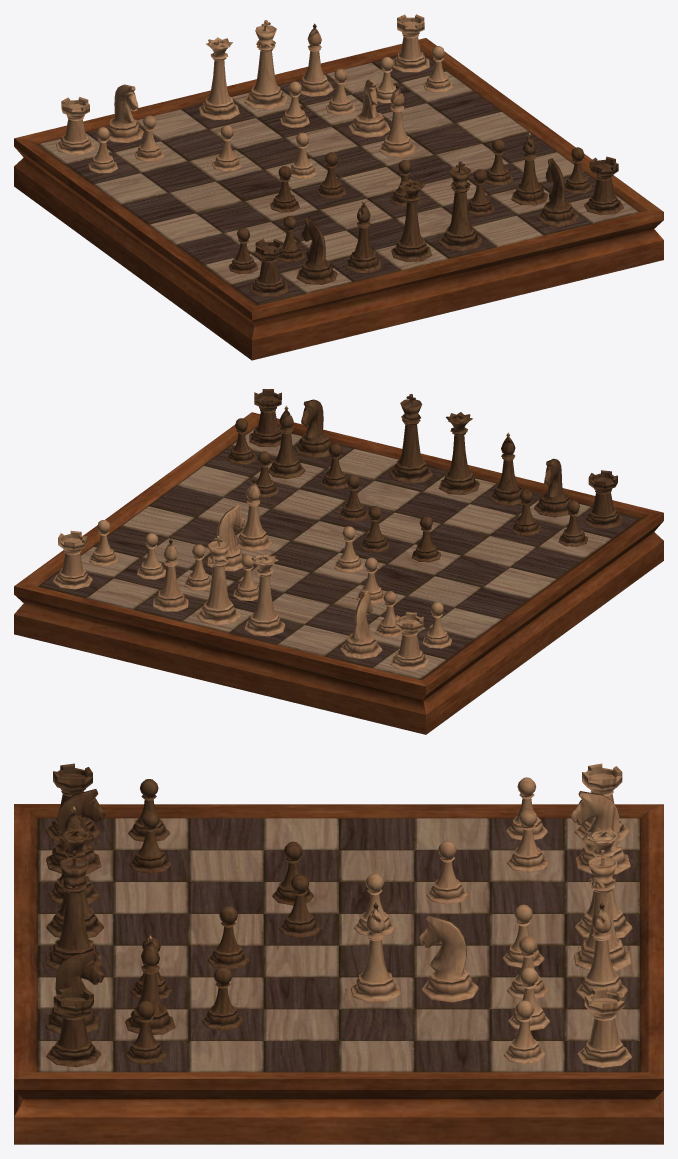
The model's file is chess-set.glb.
The picture shows the model from 3 angles, top to bottom: view 1: azimuth 30°, elevation 25°; view 2: azimuth 150°, elevation 25°; view 3: azimuth 270°, elevation 25°; orthographic projection. The views are drawn at different scales.
Visible parts, largest first — view 1: defaultMaterial; view 2: defaultMaterial; view 3: defaultMaterial.
Part boxes in pixels (<box>): defaultMaterial: <box>14,14,663,360</box>; defaultMaterial: <box>14,389,663,734</box>; defaultMaterial: <box>14,763,663,1144</box>.
Size of the model in its own units: 0.4318 by 0.1266 by 0.4318.
1 material, 1 textured.
